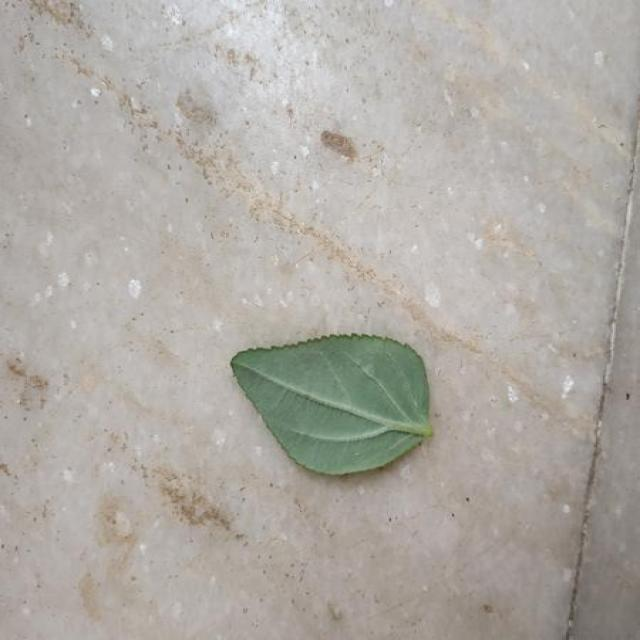Astma_weed: (232, 334, 432, 474)
